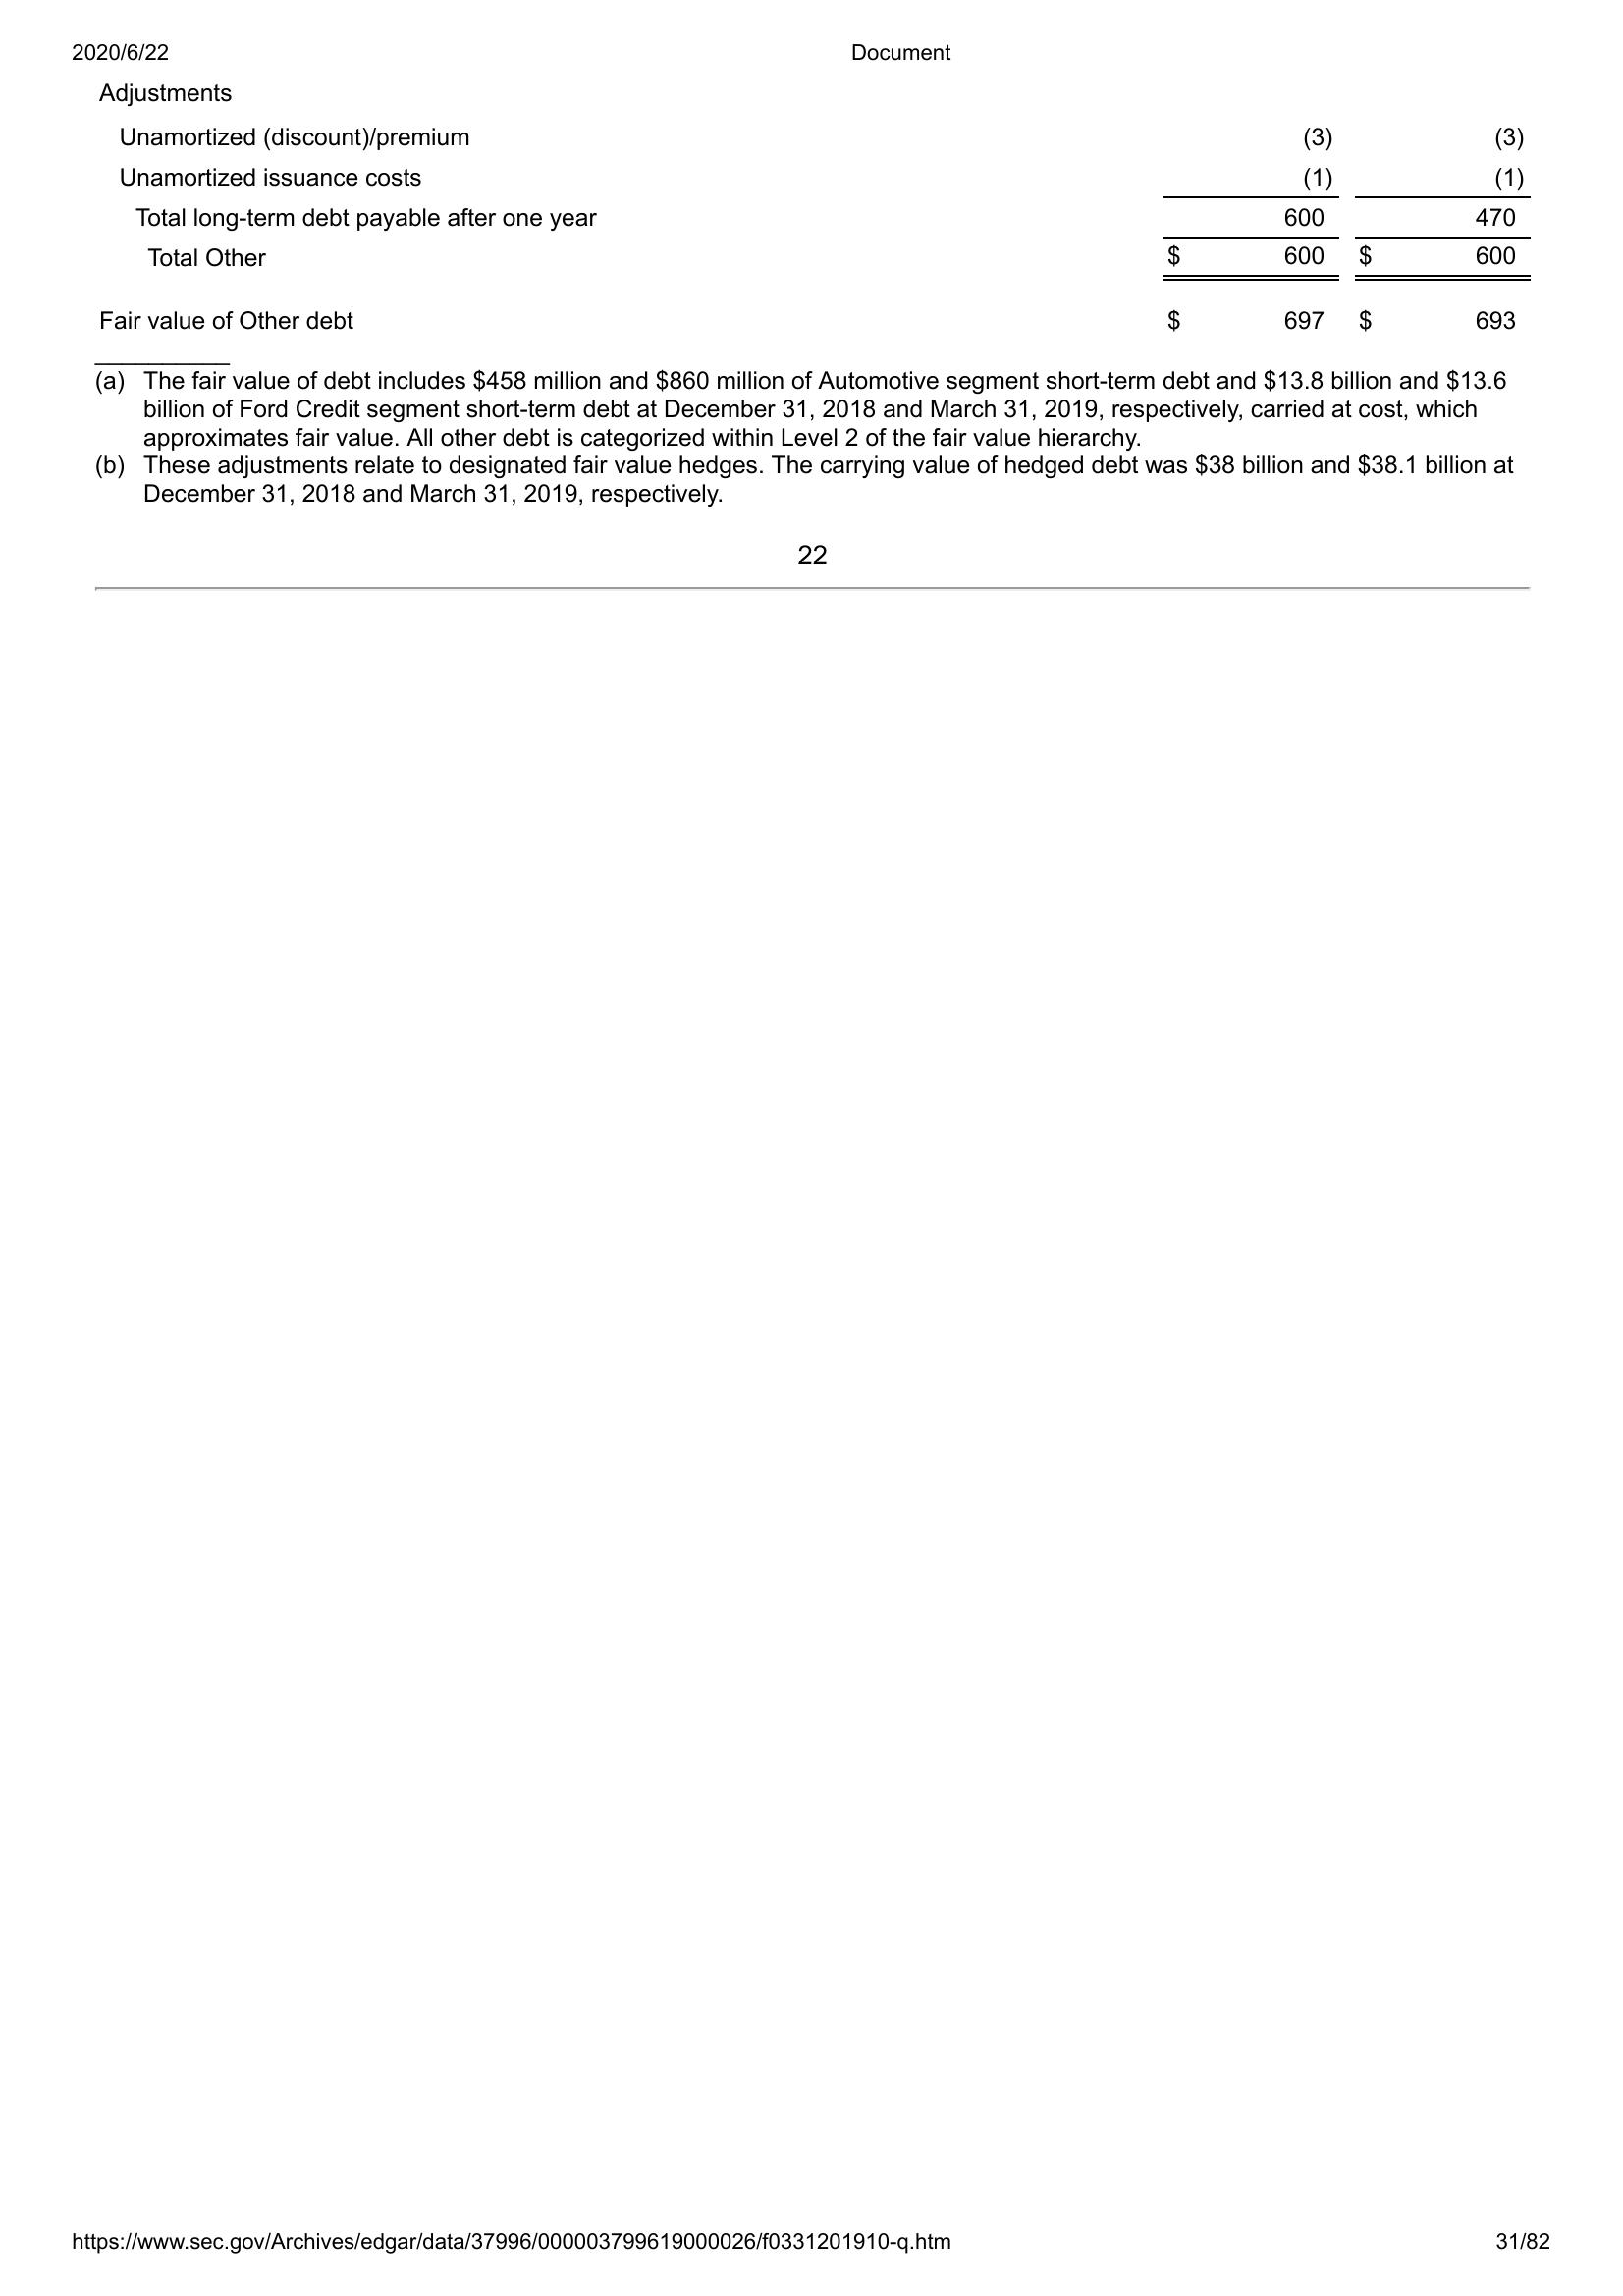table: (84, 65, 1540, 339)
